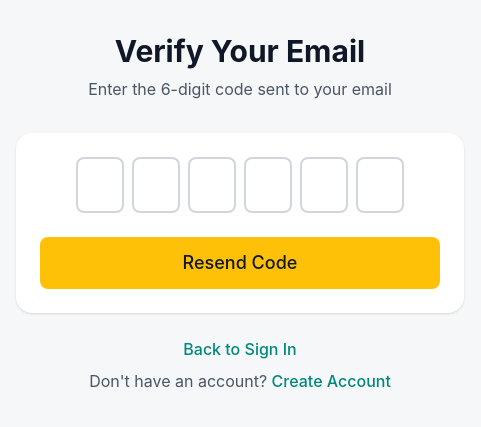
Test: VerifyEmail › Error Message Display › displays error message when verification fails
The width and height of the screenshot is (481, 427).
Step 1. Type "1" into the field named "Digit 1" → [100, 185], box x1=76 y1=157 x2=124 y2=213
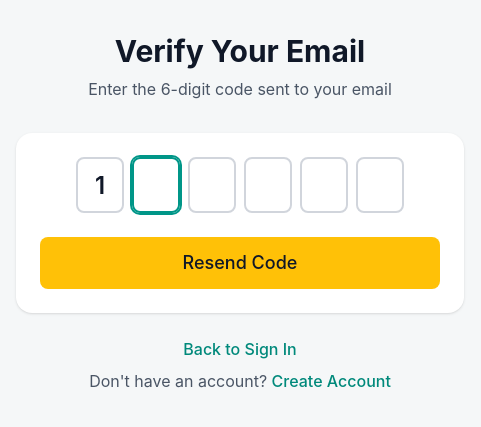
Step 2. Type "2" into the field named "Digit 2" → [156, 185], box x1=132 y1=157 x2=180 y2=213
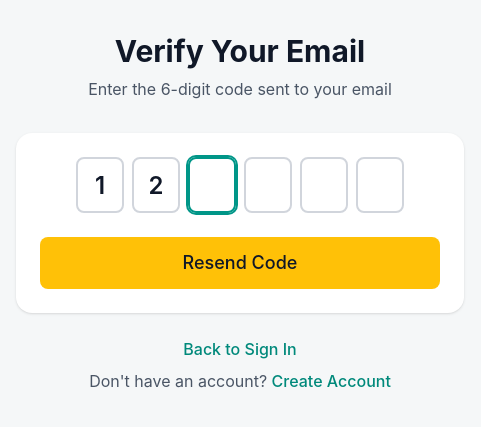
Step 3. Type "3" into the field named "Digit 3" → [212, 185], box x1=188 y1=157 x2=236 y2=213
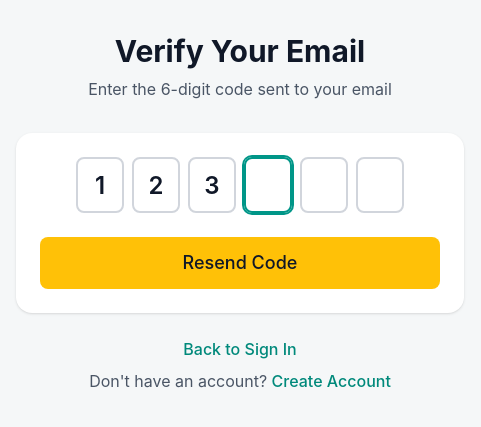
Step 4. Type "4" into the field named "Digit 4" → [268, 185], box x1=244 y1=157 x2=292 y2=213
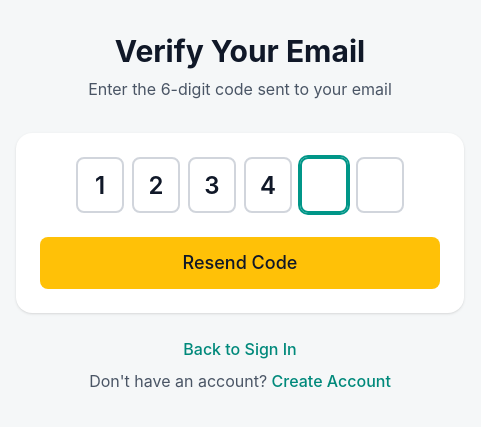
Step 5. Type "5" into the field named "Digit 5" → [324, 185], box x1=300 y1=157 x2=348 y2=213
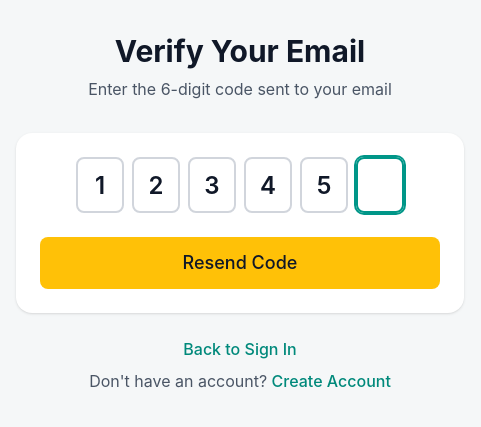
Step 6. Type "6" into the field named "Digit 6" → [380, 185], box x1=356 y1=157 x2=404 y2=213
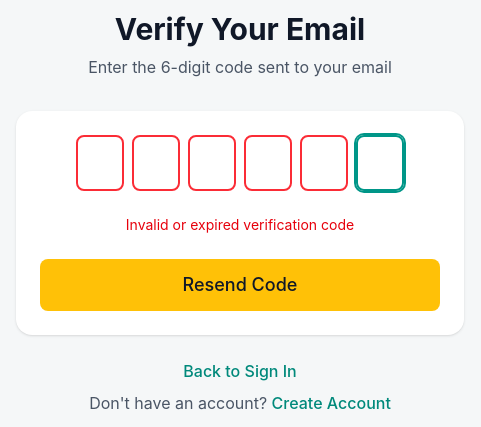
Expected: the text "Invalid or expired verification code" is shown, x1=126 y1=216 x2=354 y2=233
